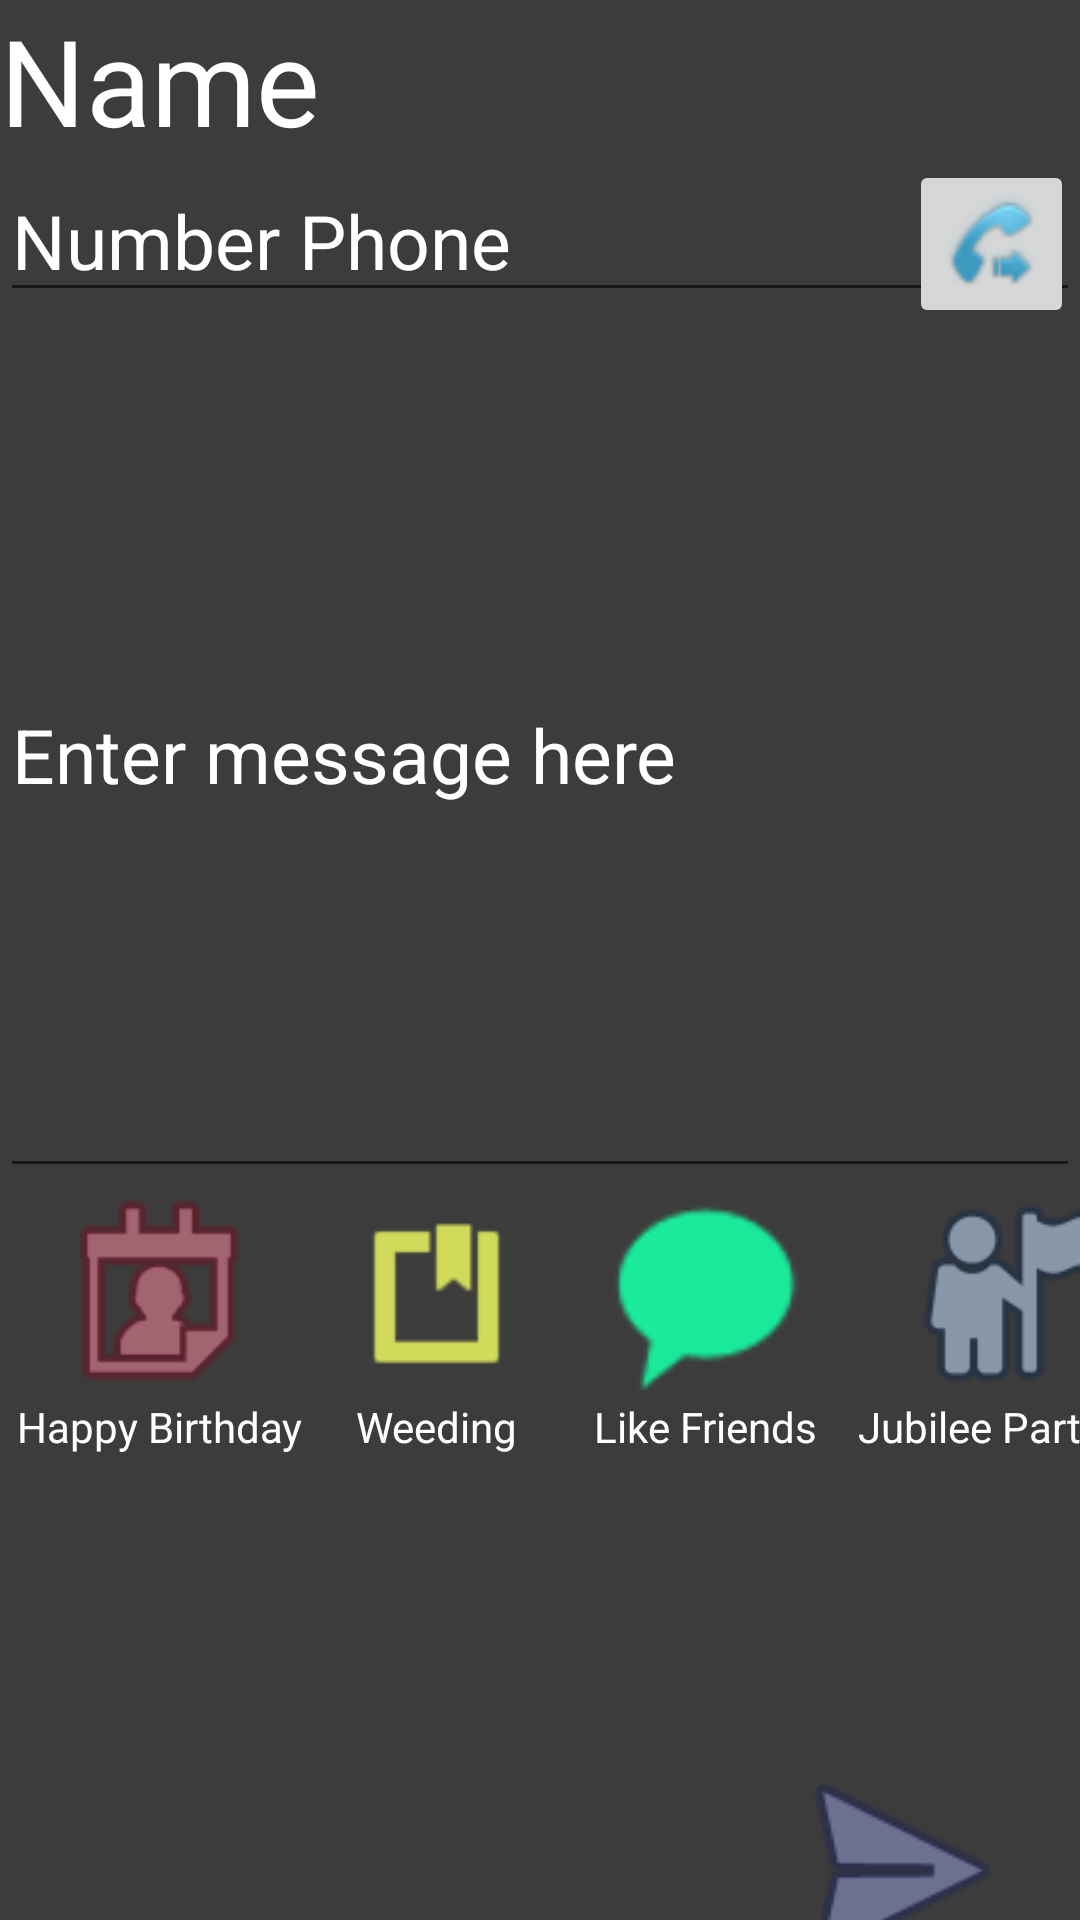

Where to tap for icons on this 1080w x 1920h app screen, as (x=x, y=y):
calendar: (x=159, y=1290)
phone call forward: (x=988, y=244)
sym action chat: (x=706, y=1298)
